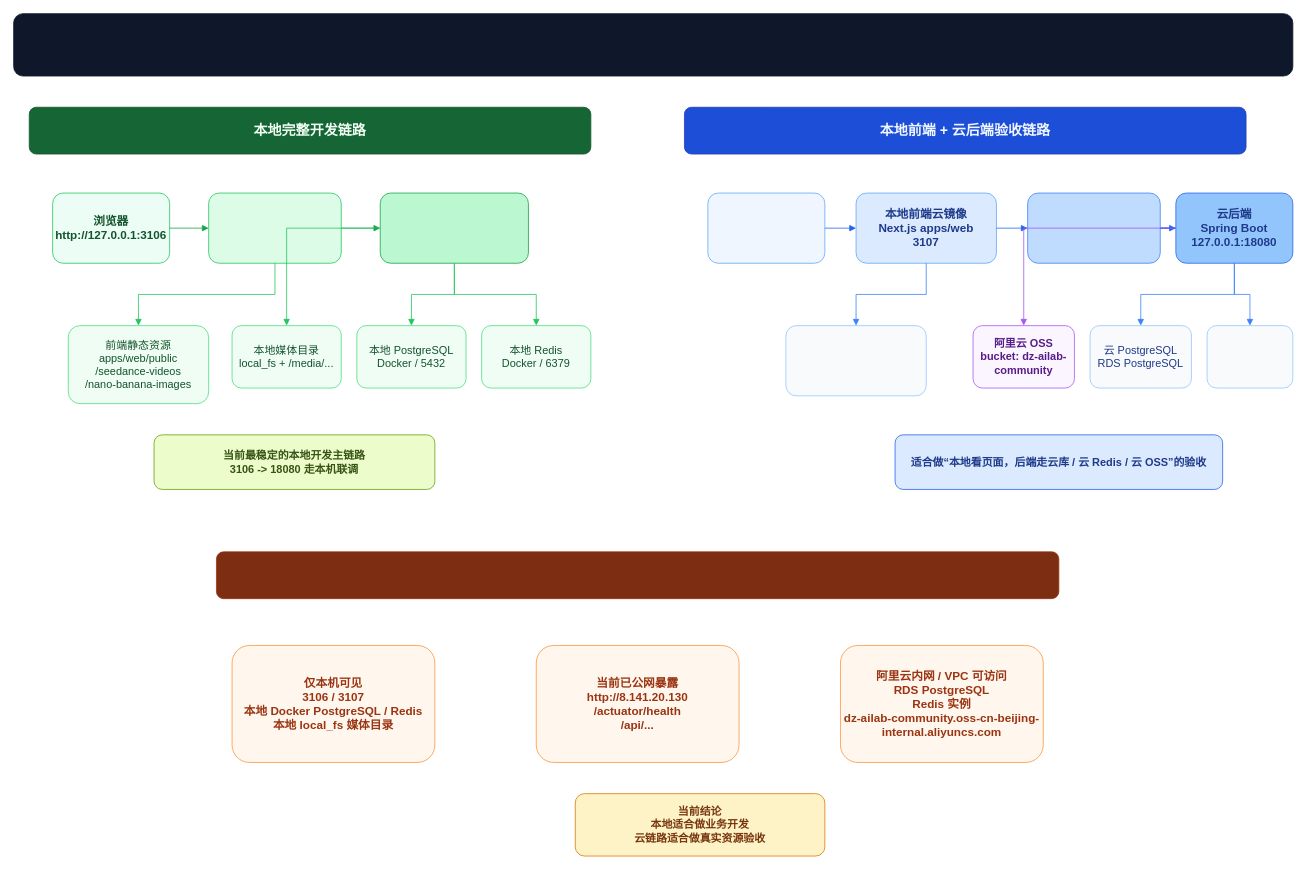
The diagram is 1307 pixels wide and 870 high, and some of its shapes have lost their labels. Here are the shapes that lost their labels. From the top down, the centre of each, then its label:
At (x=653, y=44): "DramaTV 当前本地与云链路图 只描述当前已经跑通的真实链路，不写理想状态".
At (x=274, y=227): "本地前端 Next.js apps/web 3106".
At (x=453, y=227): "本地后端 Spring Boot apps/server 18080".
At (x=766, y=227): "浏览器 http://localhost:3107".
At (x=1093, y=227): "ECS 公网入口 Nginx http://8.141.20.130".
At (x=855, y=360): "前端静态资源 apps/web/public 仍在本机提供".
At (x=1249, y=356): "云 Redis Redis 实例".
At (x=637, y=575): "当前可见性清单".
